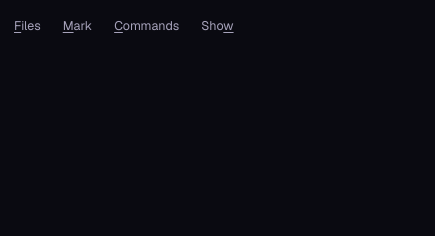
Test: MenuBar › FER-431 submenu › Enter on a submenu item runs it once and closes everything
Click the menu item "Files" at (27, 26), box [4,12,51,40]
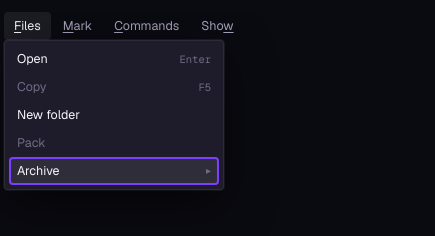
Press ArrowRight in the menu item "Archive ▸", box [9,157,219,185]
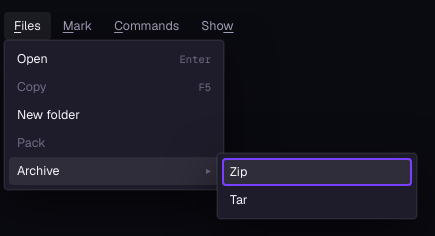
Press ArrowDown in the menu item "Zip", box [222,158,412,186]
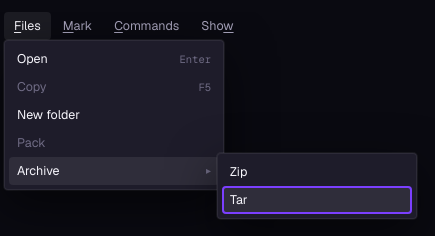
Press Enter in the menu item "Tar", box [222,186,412,214]
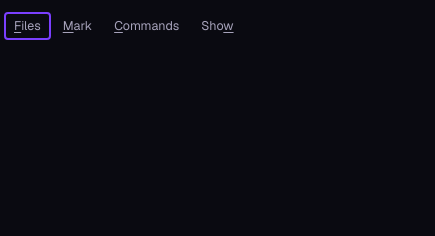
Expected: the menu is gone
